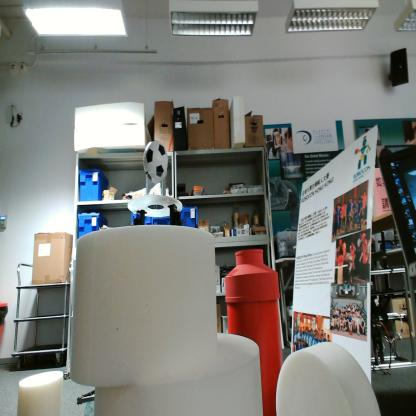ball: (143, 140, 167, 182)
